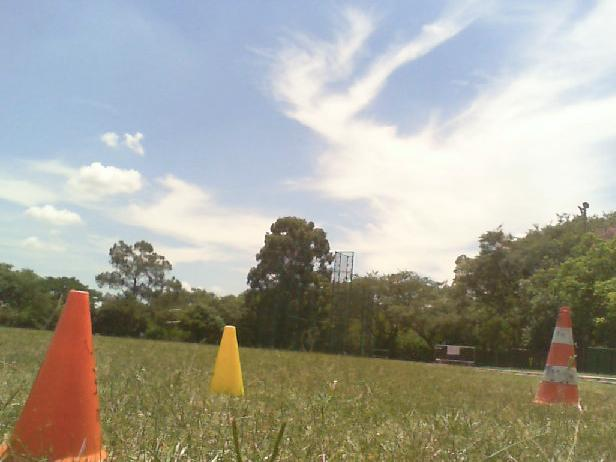0 cone: (0, 290, 110, 462), (530, 307, 580, 406), (210, 325, 245, 397)
